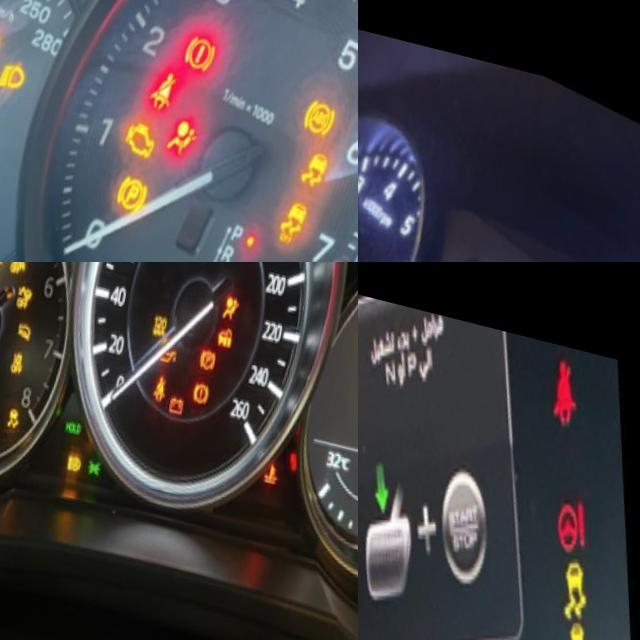High Engine Coolant Temperature: (274, 437, 294, 465)
Low beam: (2, 45, 40, 87)
Seat Belt: (161, 354, 181, 388)
